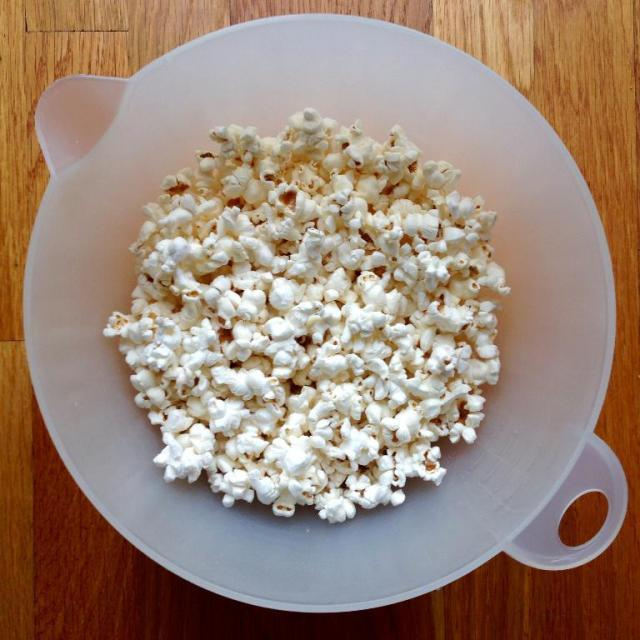Popcorn: (104, 102, 515, 528)
